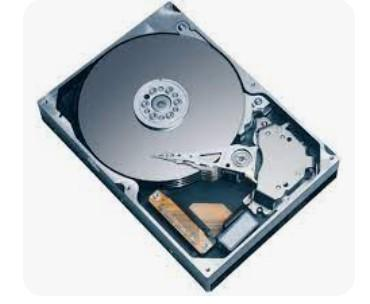internal HDD: (40, 3, 338, 293)
